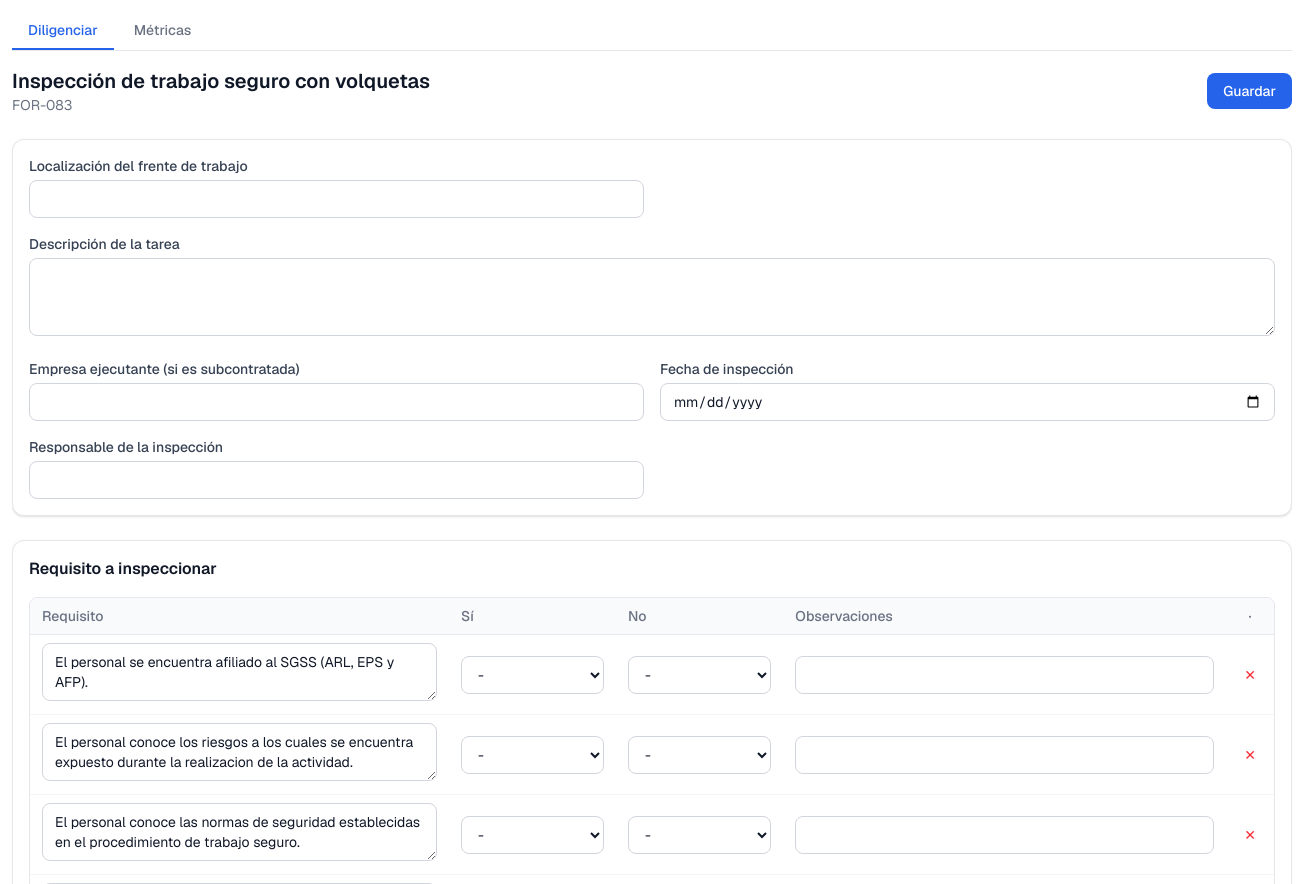
Test: ContenidoFormato (pestañas Diligenciar / Métricas) › sin registros muestra estado vacío en Métricas
Click the button "Métricas". click: (162, 31)
box: [118,12,207,50]
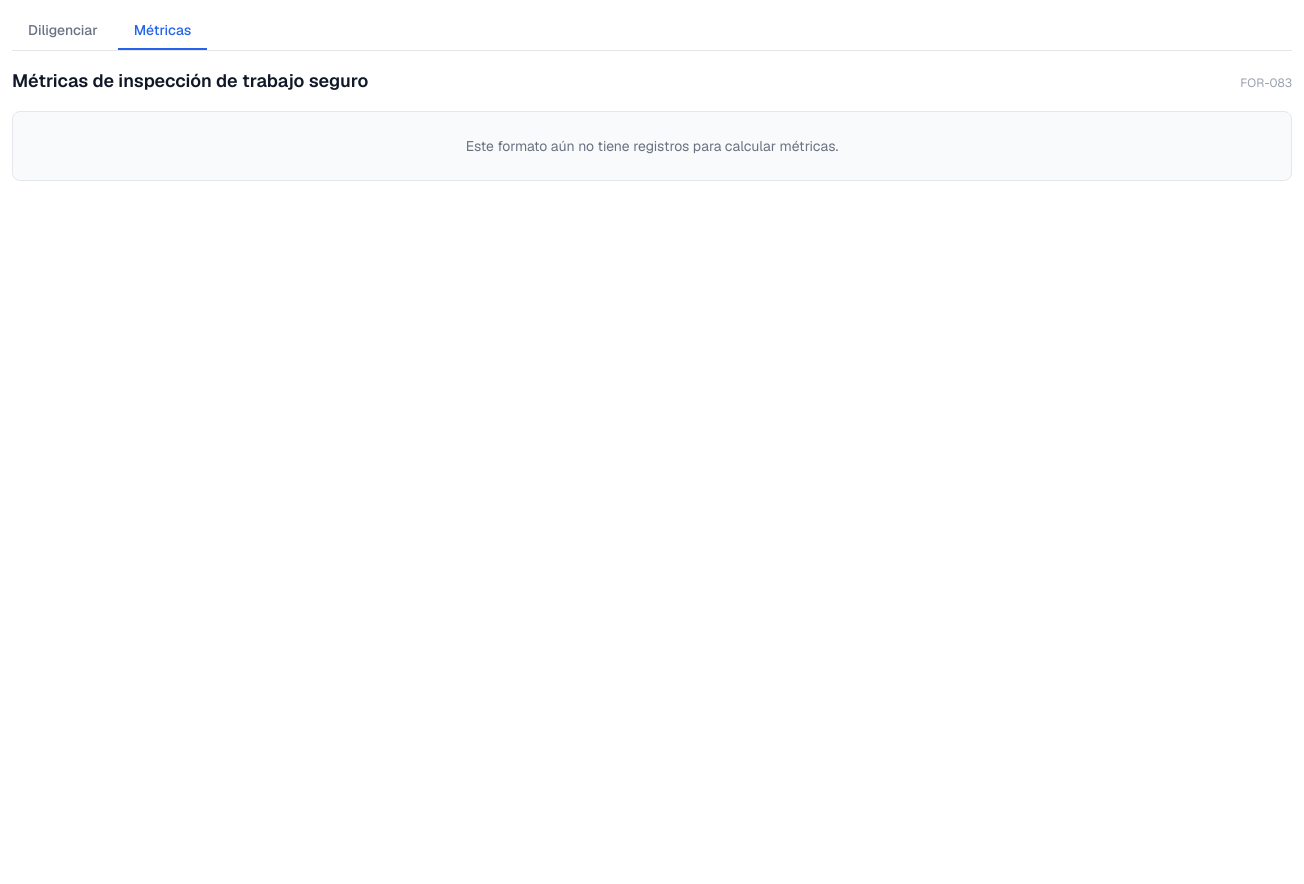
Now the text "Este formato aún no tiene registros para calcular métricas." is shown, box [12,111,1292,181]
